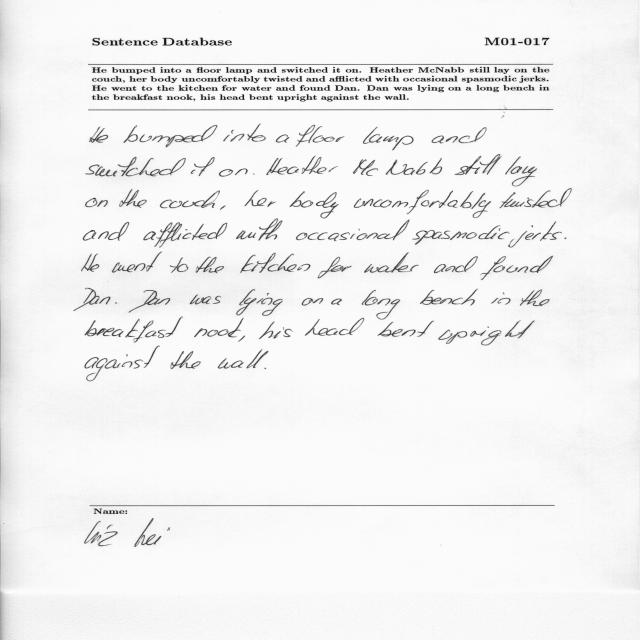word: (354, 190, 491, 218), (85, 346, 160, 381), (85, 317, 183, 343), (438, 320, 535, 346), (296, 220, 410, 241), (143, 223, 227, 248), (124, 125, 218, 147), (432, 116, 504, 143), (413, 225, 510, 245), (86, 157, 186, 176), (480, 256, 553, 280), (353, 158, 442, 176), (508, 222, 562, 248), (241, 253, 311, 273), (499, 189, 572, 208), (290, 191, 339, 219), (266, 156, 338, 175), (236, 289, 283, 316), (363, 127, 414, 150), (362, 290, 400, 320), (365, 252, 419, 273), (160, 191, 220, 209), (296, 125, 345, 147), (305, 318, 364, 336), (112, 252, 162, 273), (218, 349, 269, 369), (236, 219, 282, 241), (455, 154, 503, 175), (420, 289, 478, 306), (505, 157, 537, 187), (194, 318, 244, 337), (129, 290, 170, 313), (378, 321, 435, 337), (83, 222, 129, 241), (74, 288, 110, 311), (223, 124, 266, 142), (434, 256, 478, 273), (318, 257, 352, 278), (259, 322, 292, 339), (245, 190, 277, 207), (171, 351, 201, 369), (119, 189, 147, 208), (520, 290, 550, 306), (191, 157, 215, 176), (196, 257, 224, 273), (82, 254, 100, 272), (190, 295, 221, 305), (90, 127, 108, 143), (170, 257, 188, 273), (491, 292, 511, 305), (219, 169, 248, 177), (86, 198, 108, 207), (302, 298, 323, 306), (276, 135, 289, 143), (331, 299, 342, 305), (238, 336, 245, 342), (220, 205, 226, 210), (565, 237, 567, 239), (115, 302, 117, 304), (253, 174, 255, 175), (264, 368, 266, 369)
